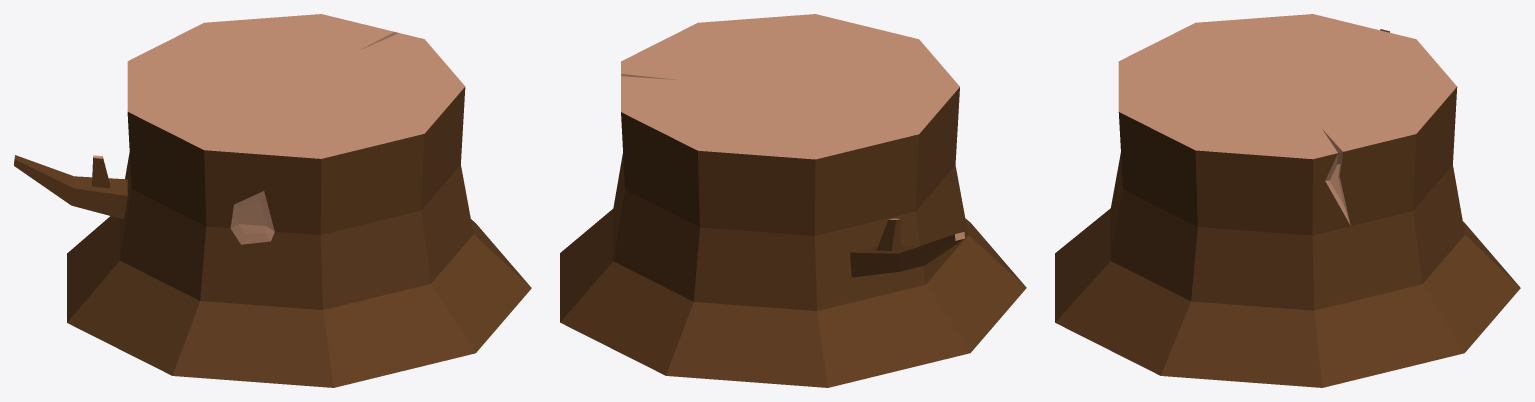
Rendered from TreeStump.fbx.
3 renders of one model, left to right at view 1: azimuth 30°, elevation 25°; view 2: azimuth 150°, elevation 25°; view 3: azimuth 270°, elevation 25°, orthographic.
Parts seen in each view (by area): view 1: Tree stump 1; view 2: Tree stump 1; view 3: Tree stump 1.
Part boxes in pixels (box(x1,y1,x2,y2)): Tree stump 1: box(14, 14, 531, 387); Tree stump 1: box(560, 14, 1026, 387); Tree stump 1: box(1055, 14, 1520, 387).
Bounding box in the file's own units: 274 × 122 × 255.
